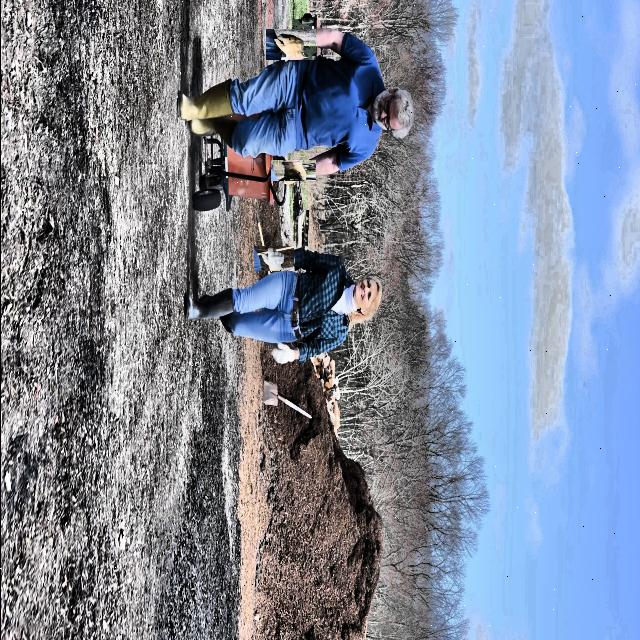gloved: (270, 24, 310, 65), (264, 340, 298, 378), (256, 242, 290, 275), (276, 154, 309, 188)
